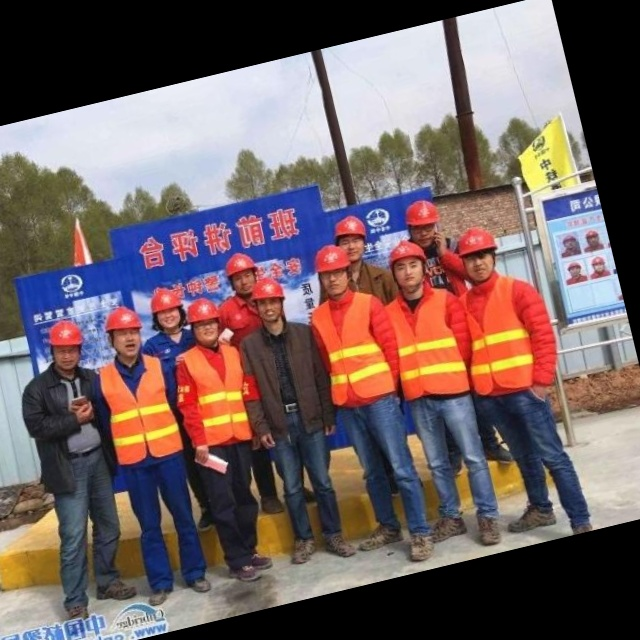Con_Casco: (246, 273, 293, 329)
Con_Chaleco: (306, 287, 399, 422), (454, 269, 547, 400), (378, 284, 470, 407), (167, 340, 262, 457), (95, 354, 182, 465)
Sin_Chaleco: (15, 362, 117, 484)
